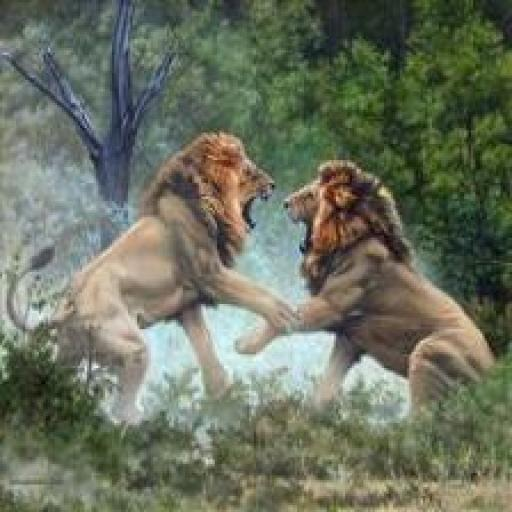lion: (169, 132, 270, 260), (281, 149, 384, 274)
